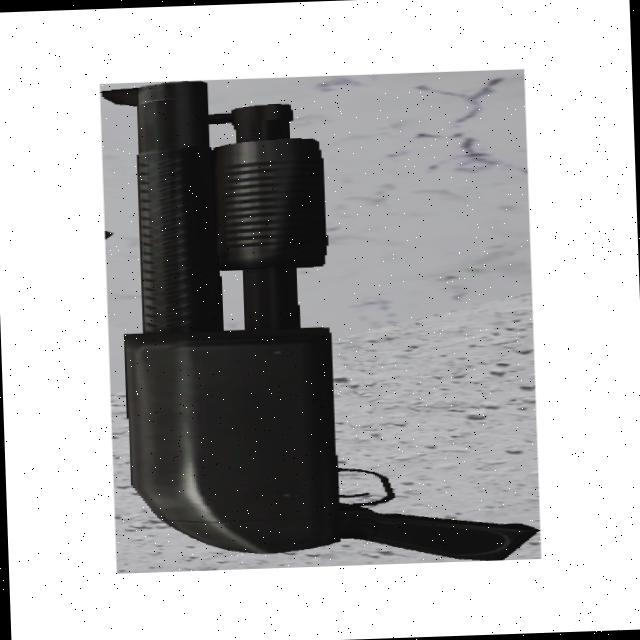Shotgun: (44, 8, 635, 640)
